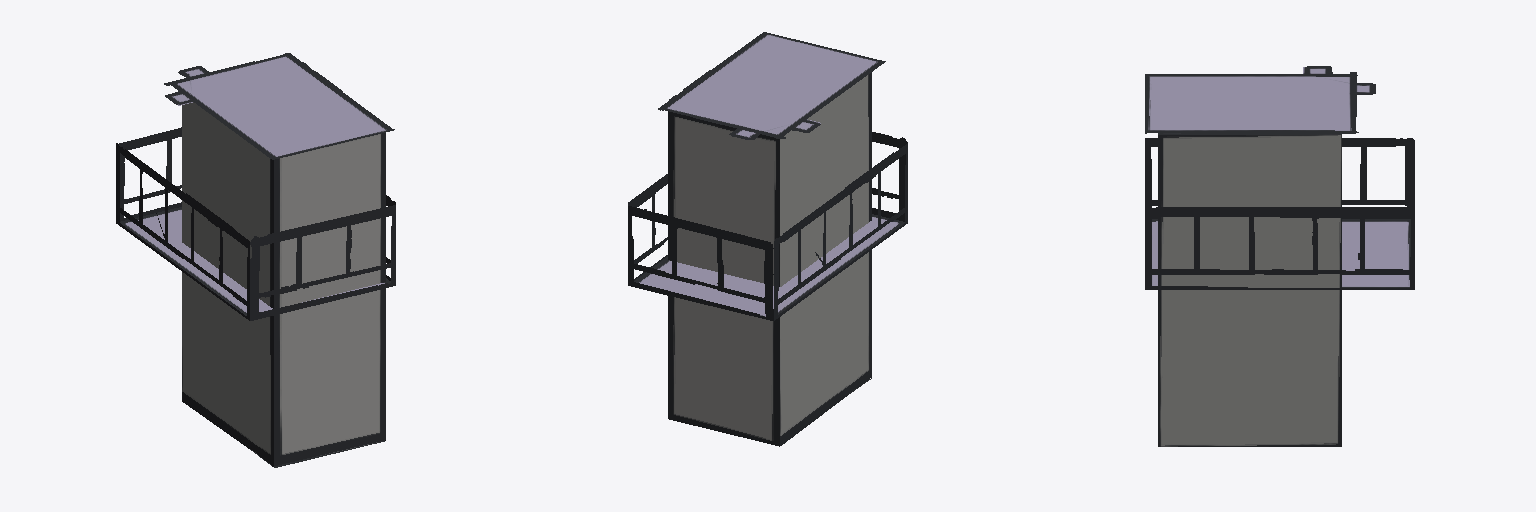
3 renders of one model, left to right at view 1: azimuth 30°, elevation 25°; view 2: azimuth 150°, elevation 25°; view 3: azimuth 270°, elevation 25°, orthographic.
Parts seen in each view (by area): view 1: Cube, Cube.001; view 2: Cube, Cube.001; view 3: Cube, Cube.001.
Boxes of the visible parts, <box> form: Cube: <box>182,102,385,467</box>; Cube.001: <box>116,53,395,320</box>; Cube: <box>668,72,871,446</box>; Cube.001: <box>628,32,907,320</box>; Cube: <box>1158,133,1341,446</box>; Cube.001: <box>1145,66,1414,289</box>.
Size of the model in its own units: 1.25 by 2.58 by 2.
2 materials, 2 textured.